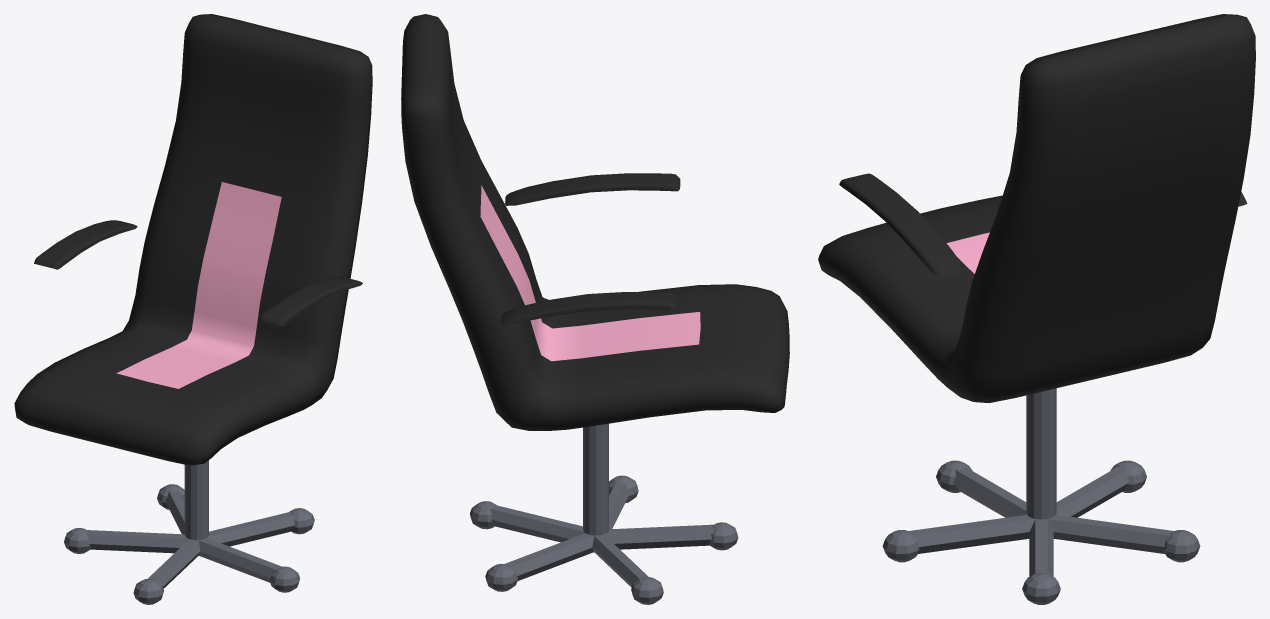
Rendered from chair_gaming.glb.
3 renders of one model, left to right at view 1: azimuth 30°, elevation 25°; view 2: azimuth 150°, elevation 25°; view 3: azimuth 270°, elevation 25°, orthographic. The views are drawn at different scales.
Visible parts, largest first — view 1: chair, Base_Arm_2, Base_Pole, Base_Arm_0, Base_Arm_4, Base_Arm_3, Base_Wheel_3, Base_Wheel_4, Base_Wheel_2, Base_Arm_1, Base_Wheel_0; view 2: chair, Base_Pole, Base_Arm_3, Base_Arm_0, Base_Arm_1, Base_Arm_2, Base_Wheel_2, Base_Wheel_1, Base_Wheel_3, Base_Arm_4, Base_Wheel_0; view 3: chair, Base_Pole, Base_Arm_1, Base_Arm_4, Base_Arm_2, Base_Arm_3, Base_Arm_0, Base_Wheel_0, Base_Wheel_1, Base_Wheel_4, Base_Wheel_2, Base_Wheel_3.
Boxes of the visible parts, <box> form: chair: <box>14,14,372,465</box>; Base_Arm_2: <box>85,530,188,553</box>; Base_Pole: <box>184,460,208,540</box>; Base_Arm_0: <box>207,511,295,546</box>; Base_Arm_4: <box>198,538,281,582</box>; Base_Arm_3: <box>148,539,200,588</box>; Base_Wheel_3: <box>133,578,163,604</box>; Base_Wheel_4: <box>269,566,299,592</box>; Base_Wheel_2: <box>64,528,90,553</box>; Base_Arm_1: <box>165,490,184,534</box>; Base_Wheel_0: <box>289,508,314,534</box>; chair: <box>401,14,789,430</box>; Base_Pole: <box>583,423,608,535</box>; Base_Arm_3: <box>604,524,714,549</box>; Base_Arm_0: <box>490,505,584,542</box>; Base_Arm_1: <box>505,533,593,581</box>; Base_Arm_2: <box>592,534,648,587</box>; Base_Wheel_2: <box>631,577,663,604</box>; Base_Wheel_1: <box>485,564,517,591</box>; Base_Wheel_3: <box>709,522,738,550</box>; Base_Arm_4: <box>609,482,629,529</box>; Base_Wheel_0: <box>470,501,496,529</box>; chair: <box>818,14,1255,402</box>; Base_Pole: <box>1026,388,1056,519</box>; Base_Arm_1: <box>1047,515,1173,553</box>; Base_Arm_4: <box>909,515,1035,553</box>; Base_Arm_2: <box>1056,467,1129,517</box>; Base_Arm_3: <box>953,467,1026,517</box>; Base_Arm_0: <box>1029,519,1053,576</box>; Base_Wheel_0: <box>1022,572,1060,604</box>; Base_Wheel_1: <box>1163,530,1200,562</box>; Base_Wheel_4: <box>882,530,919,562</box>; Base_Wheel_2: <box>1110,460,1146,492</box>; Base_Wheel_3: <box>936,460,972,492</box>.
Size of the model in its own units: 1.16 by 1.48 by 1.01.
